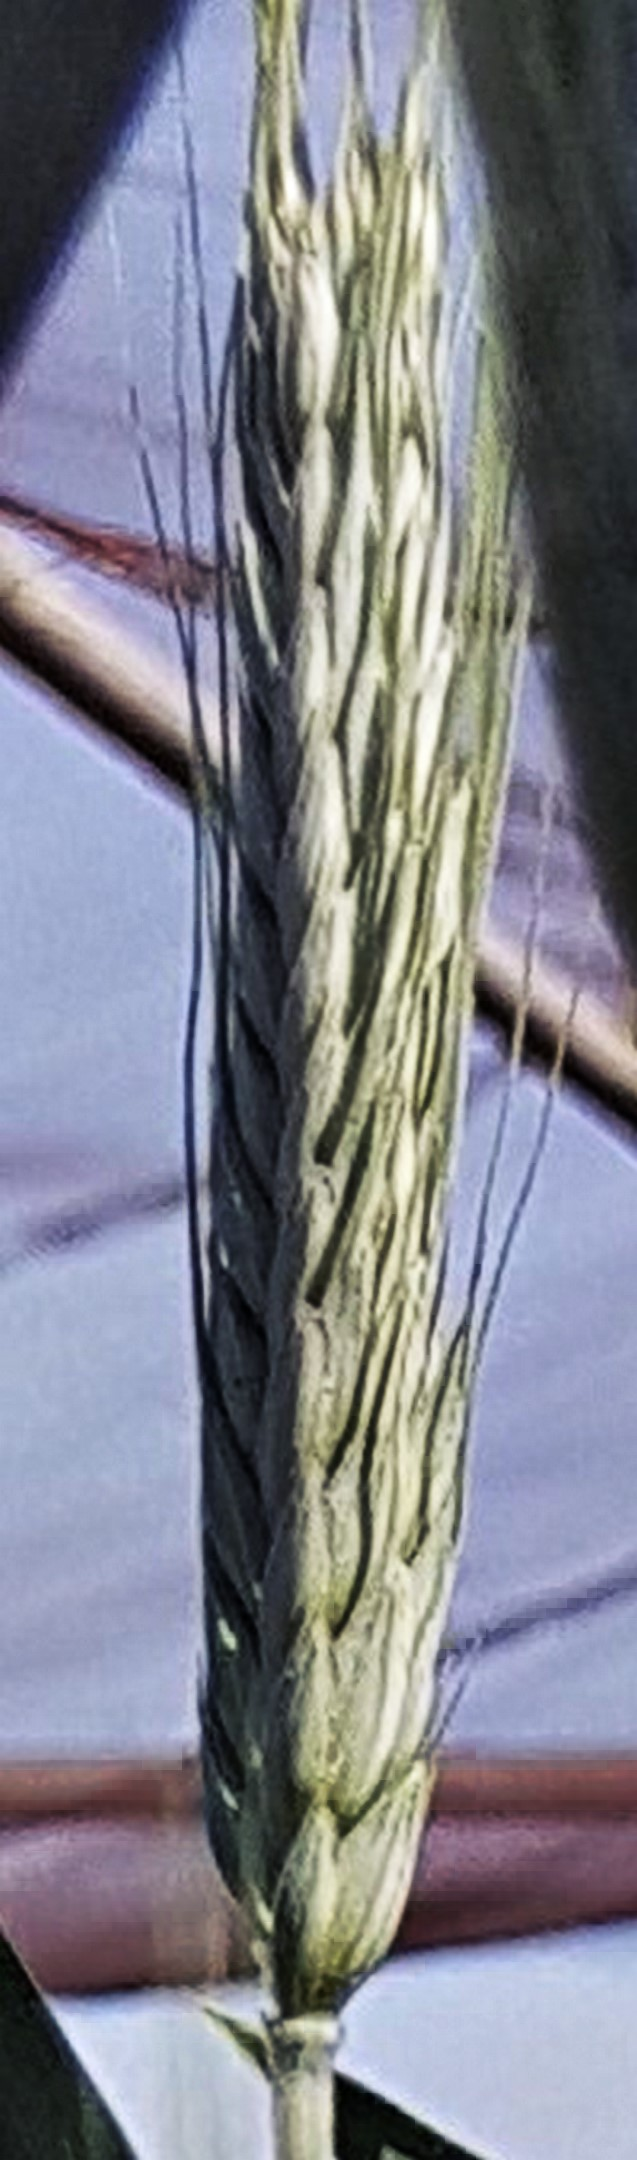Healthy Wheat: (153, 112, 545, 2042)
